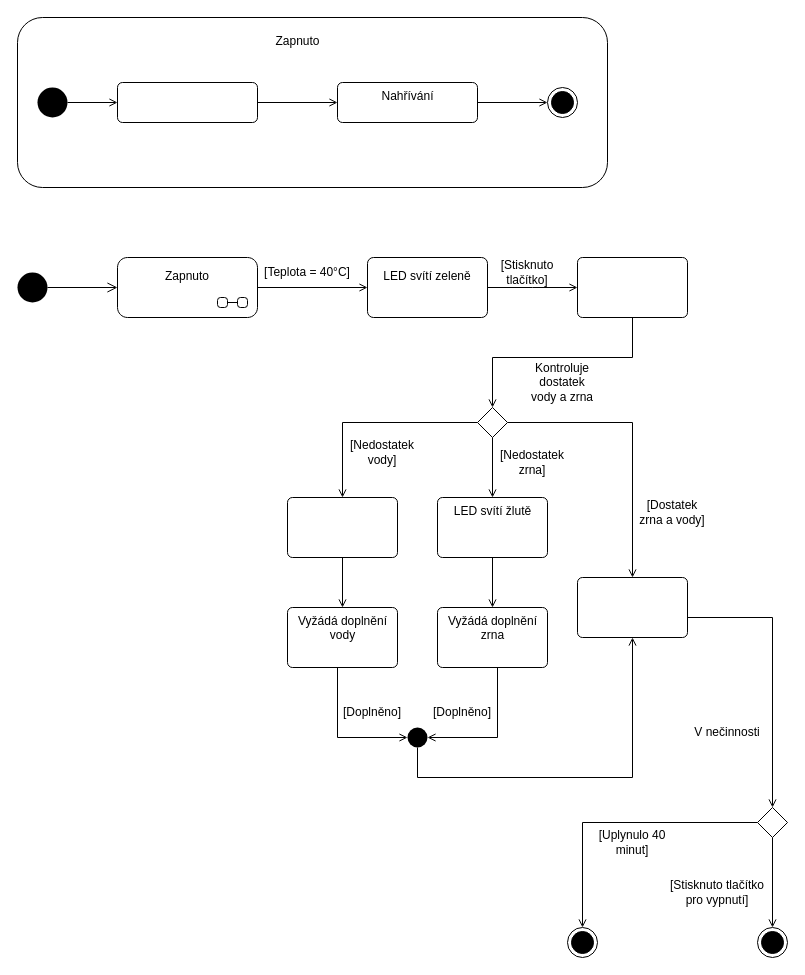
Image size: 805x975. Some labels were removed from this diagram. The shapes that lost their labels are listed below. From the top down, each one's box as (x1, y1, x2, y2) in pixels, then its label:
(116, 82, 258, 122): Čištění
(576, 256, 688, 318): Vaří kávu
(286, 496, 398, 558): LED svítí červeně
(576, 576, 688, 638): Dokončí kávu
